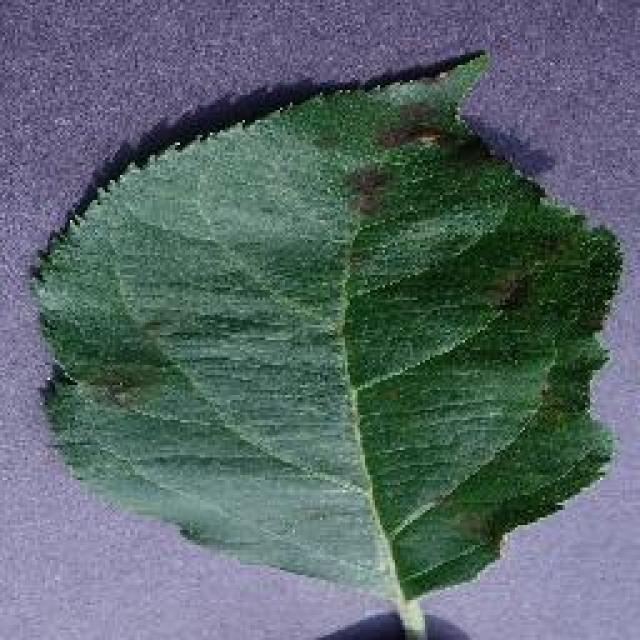apple scab disease: (27, 45, 625, 637)
